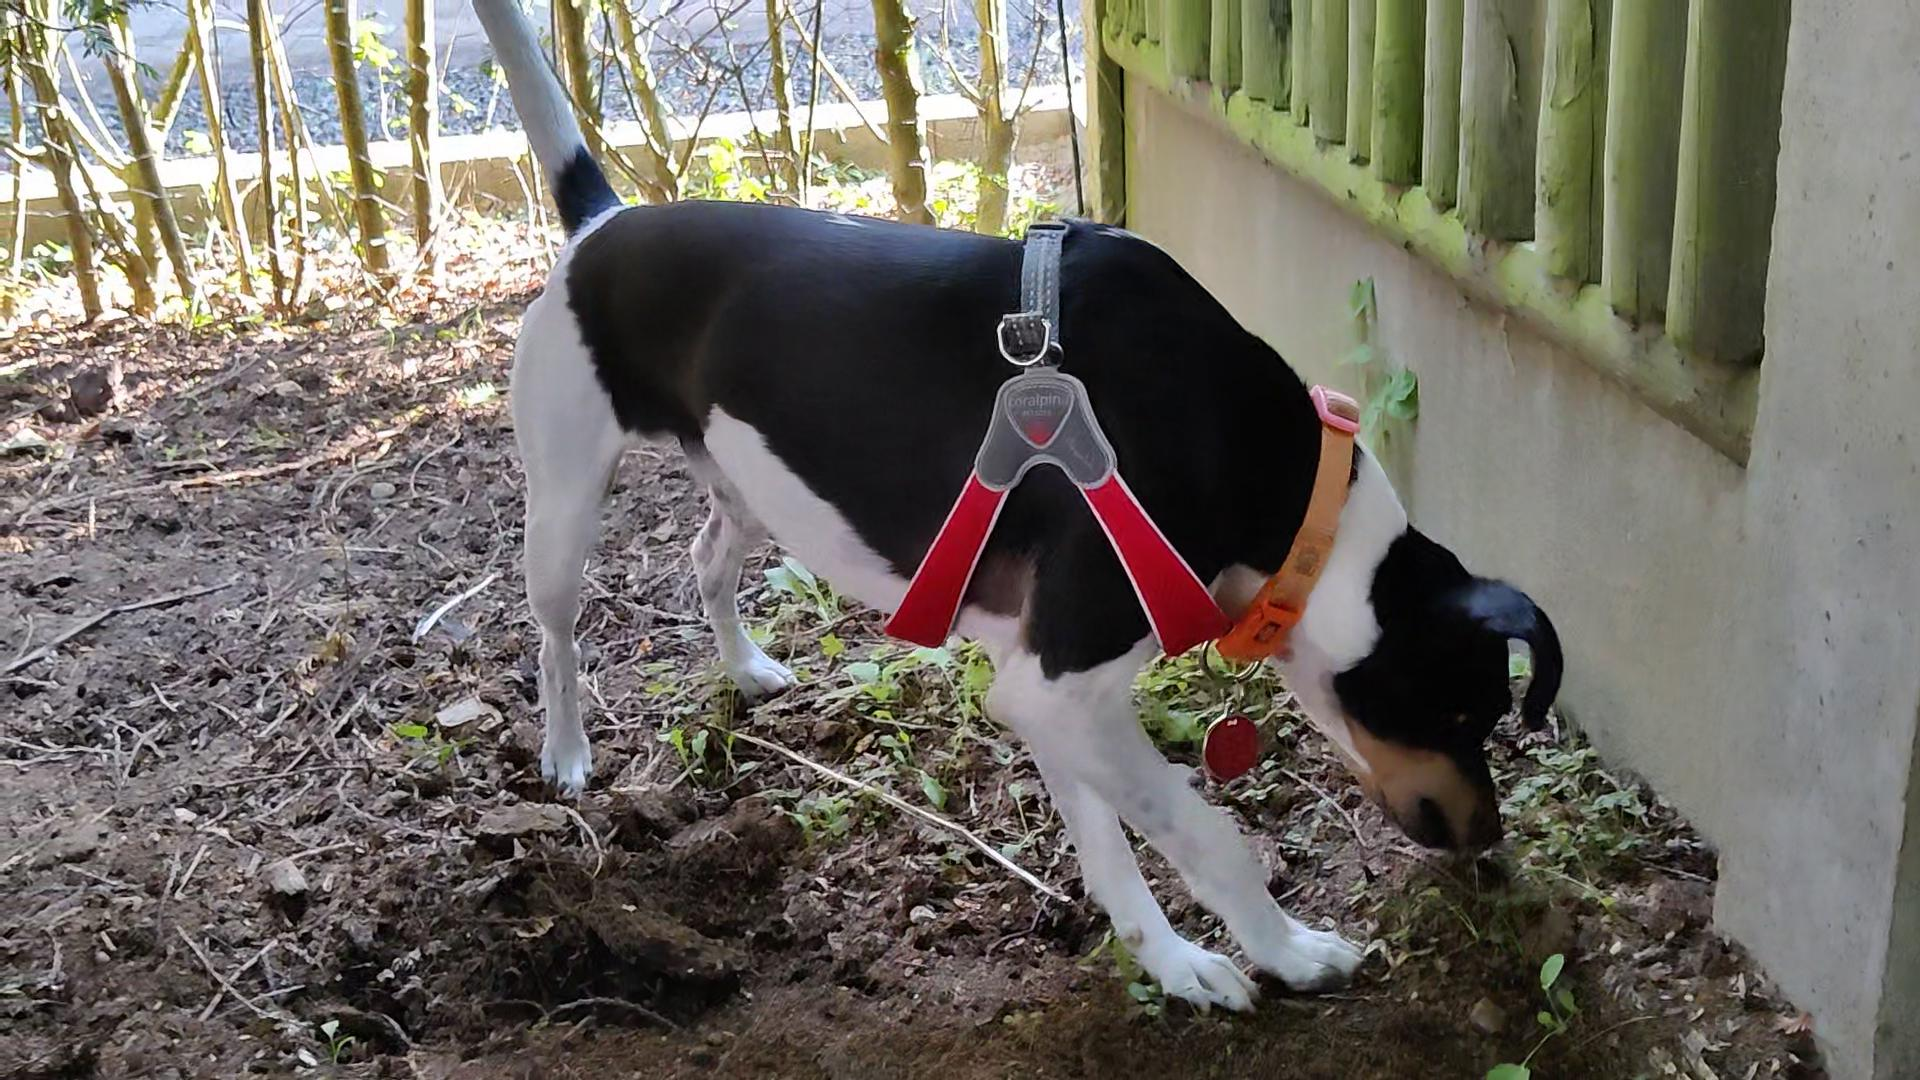Dog: (454, 0, 1575, 1027)
